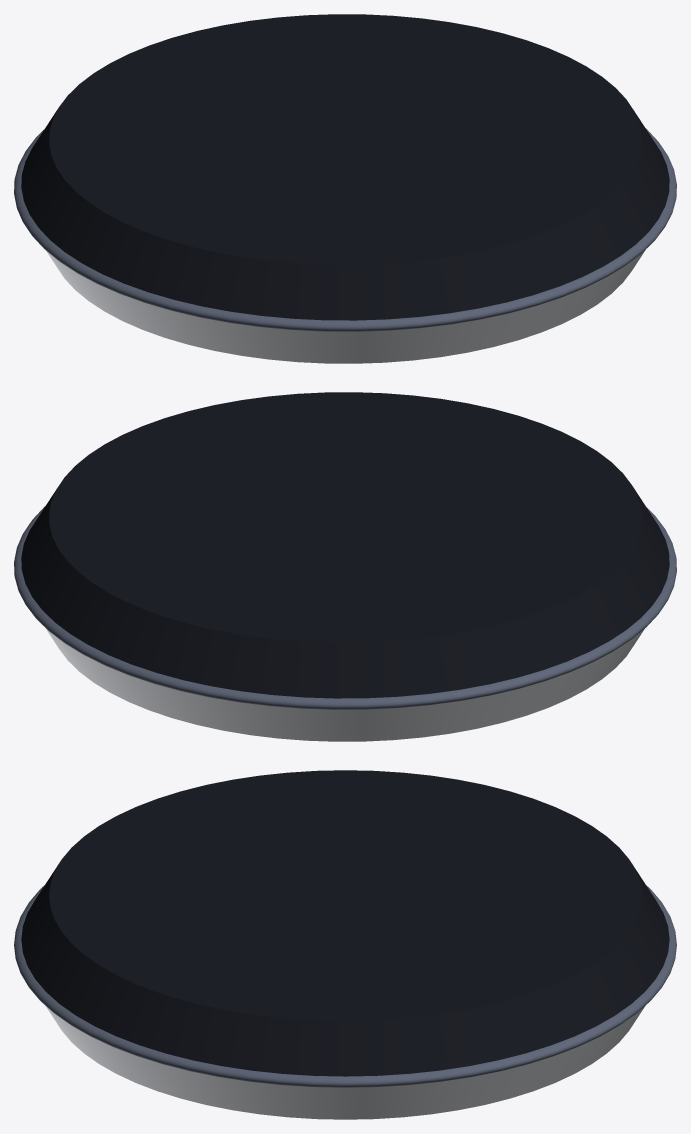
The model's file is othello_disc.glb.
3 renders of one model, top to bottom at view 1: azimuth 30°, elevation 25°; view 2: azimuth 150°, elevation 25°; view 3: azimuth 270°, elevation 25°, orthographic.
Visible parts, largest first — view 1: BlackHalf, WhiteHalf, CenterRim; view 2: BlackHalf, WhiteHalf, CenterRim; view 3: BlackHalf, WhiteHalf, CenterRim.
Part boxes in pixels (<box>): BlackHalf: <box>21,14,669,320</box>; WhiteHalf: <box>46,249,645,363</box>; CenterRim: <box>14,128,676,331</box>; BlackHalf: <box>21,392,669,698</box>; WhiteHalf: <box>45,627,644,741</box>; CenterRim: <box>14,506,676,709</box>; BlackHalf: <box>21,770,669,1076</box>; WhiteHalf: <box>46,1006,644,1119</box>; CenterRim: <box>14,885,676,1087</box>.
Size of the model in its own units: 0.85 by 0.14 by 0.85.
